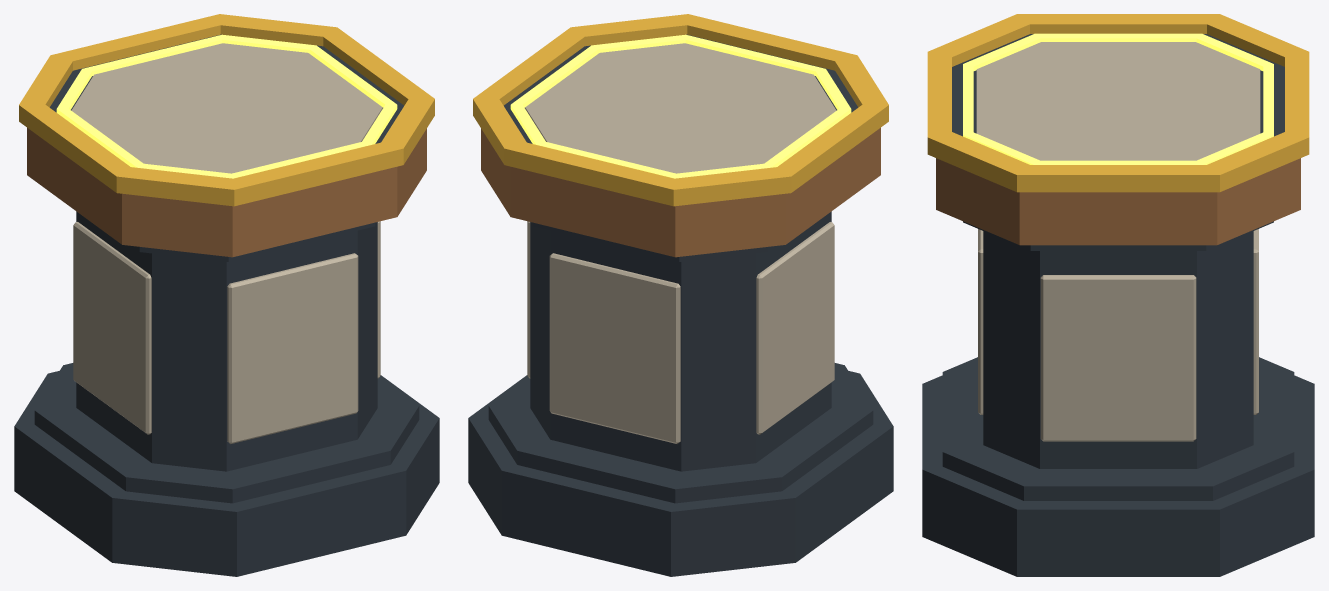
The model's file is Gallery_PedestalEmpty.fbx.
3 renders of one model, left to right at view 1: azimuth 30°, elevation 25°; view 2: azimuth 150°, elevation 25°; view 3: azimuth 270°, elevation 25°, orthographic. The views are drawn at different scales.
Visible parts, largest first — view 1: FrameDark, Concrete, Amber_Metal, Wood, SlotGlow; view 2: FrameDark, Concrete, Amber_Metal, Wood, SlotGlow; view 3: FrameDark, Concrete, Amber_Metal, Wood, SlotGlow.
Boxes of the visible parts, <box> form: FrameDark: <box>14,34,439,576</box>; Concrete: <box>71,43,382,443</box>; Amber_Metal: <box>19,14,434,206</box>; Wood: <box>27,127,426,257</box>; SlotGlow: <box>56,34,397,178</box>; FrameDark: <box>468,34,893,576</box>; Concrete: <box>525,43,836,443</box>; Amber_Metal: <box>473,14,888,206</box>; Wood: <box>481,127,880,257</box>; SlotGlow: <box>510,34,851,178</box>; FrameDark: <box>922,34,1314,576</box>; Concrete: <box>976,42,1260,441</box>; Amber_Metal: <box>927,14,1309,192</box>; Wood: <box>936,158,1300,245</box>; SlotGlow: <box>963,33,1273,164</box>.
Bounding box in the file's own units: 2.9 × 3.26 × 2.9.
